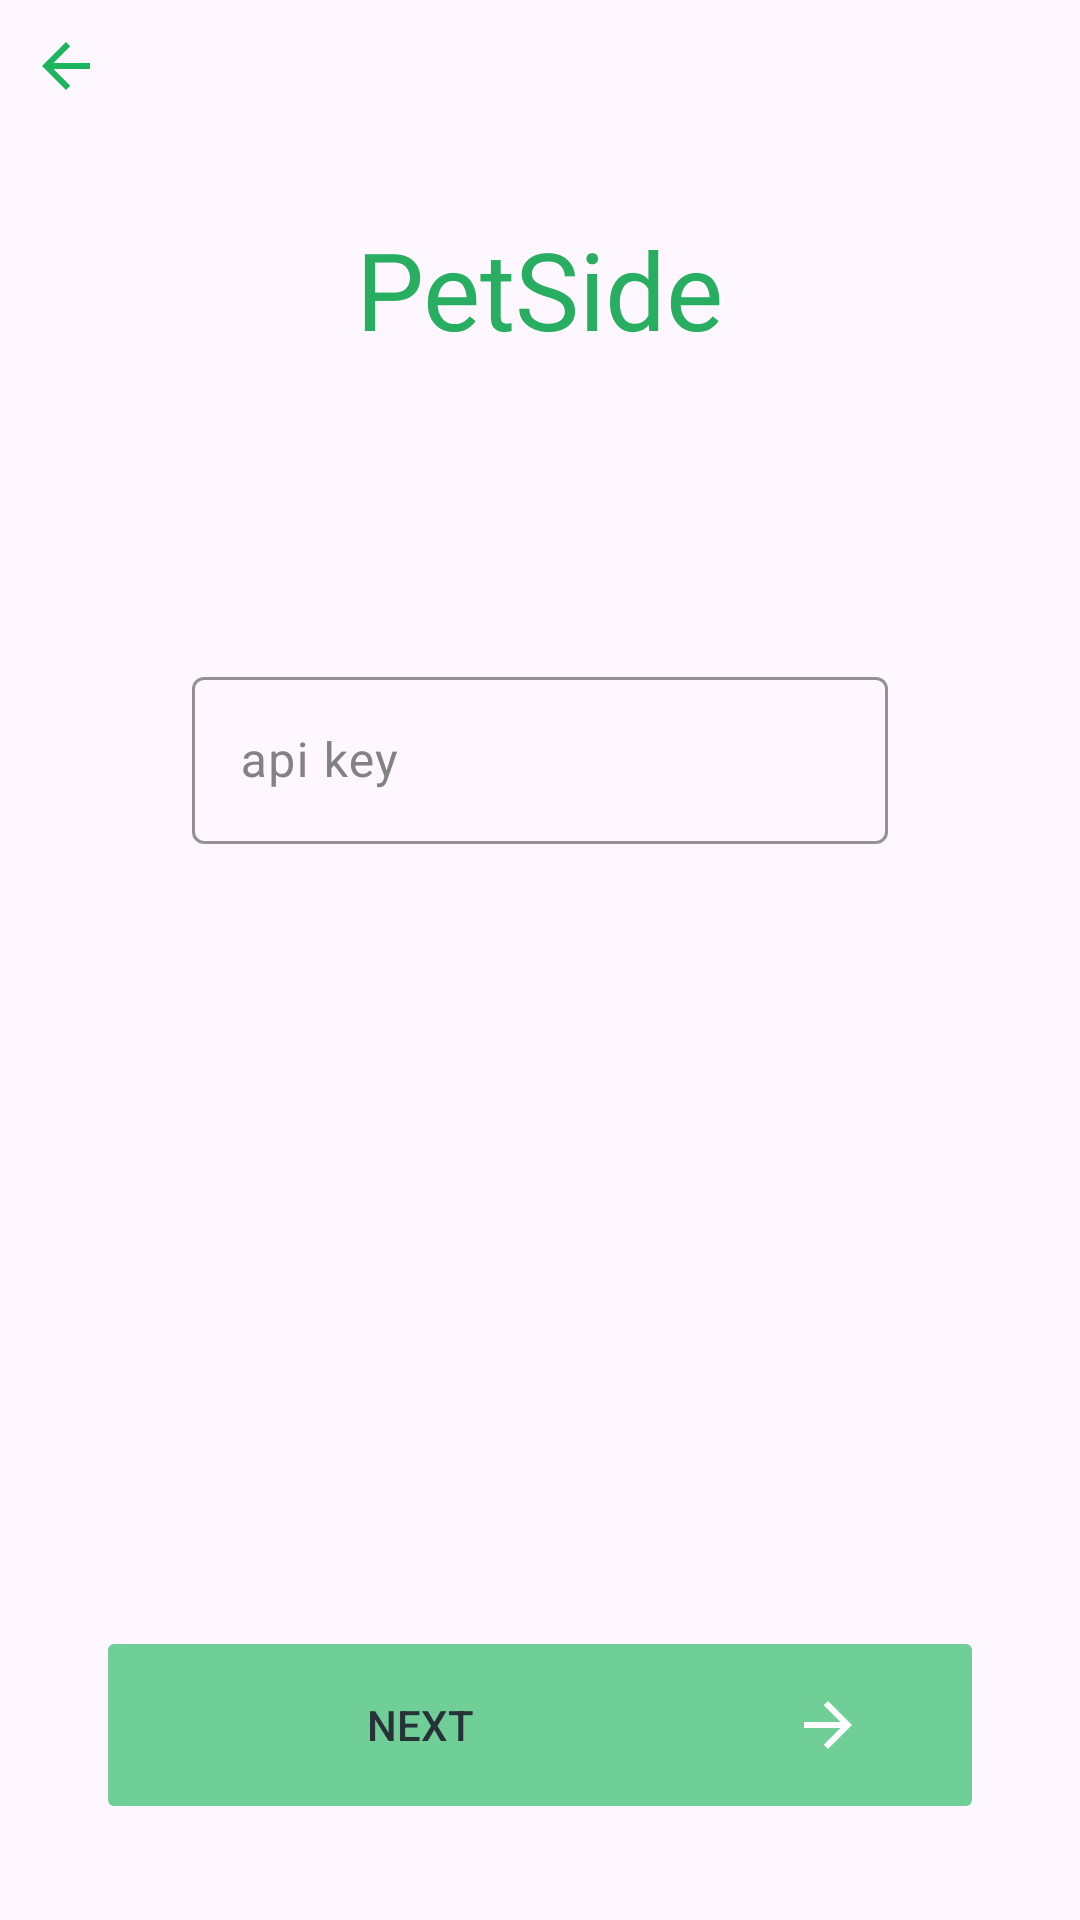

Icons on this 1080 x 1920 Android screen, each with its box as detection(x1, y1, x2, y2):
The button to navigate up: detection(42, 42, 90, 90)
